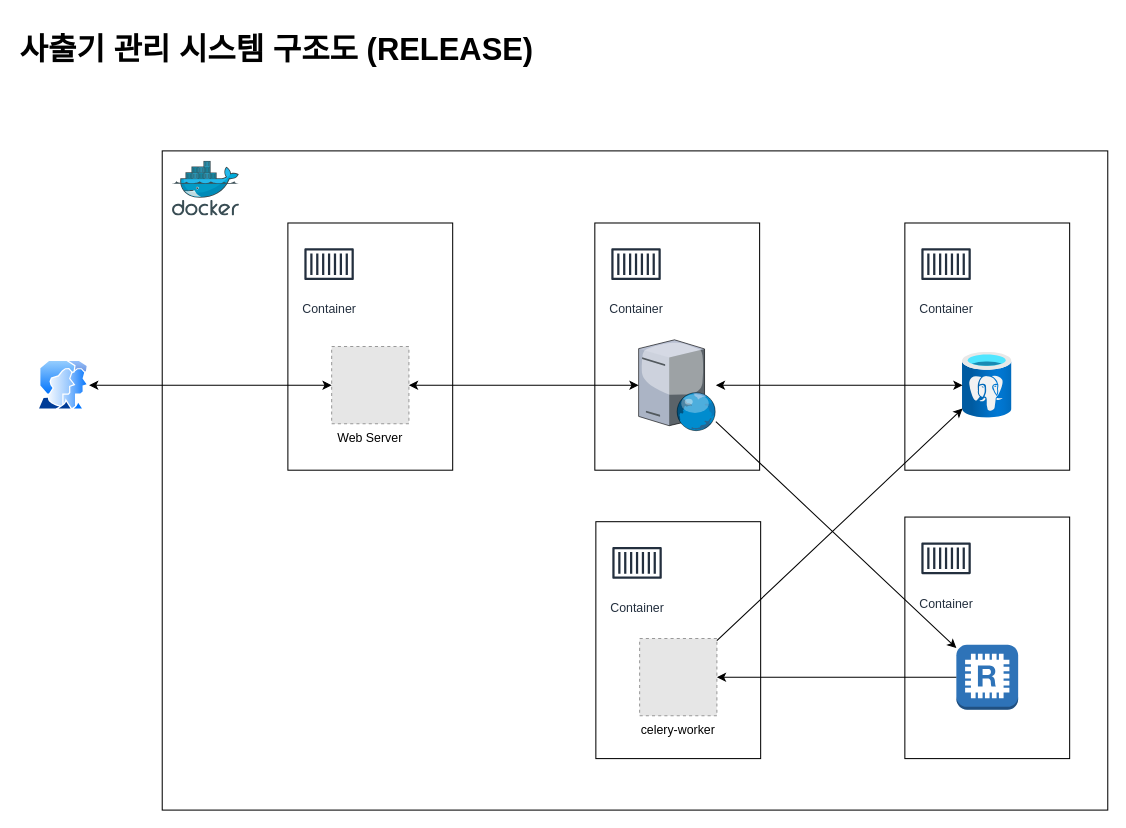
The diagram is 1126 pixels wide and 828 high, and some of its shapes have lost their labels. Grey dashed boxes stand in for pictures. The centre of each missing label's shape, as x and y in pixels:
API Server: [676,384]
PostgresSQL: [986,385]
Redis: [986,677]
User: [63,385]
